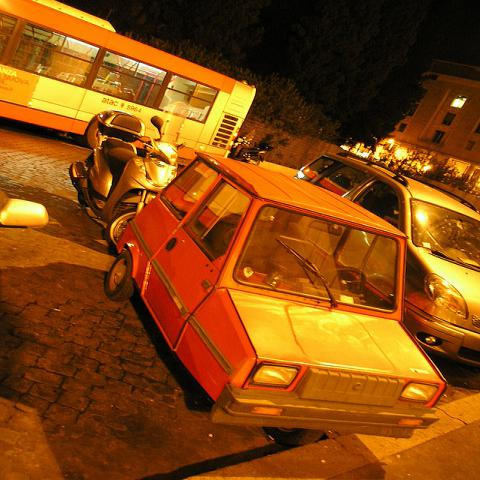bus: (3, 2, 263, 168)
car: (103, 154, 443, 439), (292, 150, 479, 368)
motorcycle: (70, 112, 182, 238), (228, 144, 275, 165)
